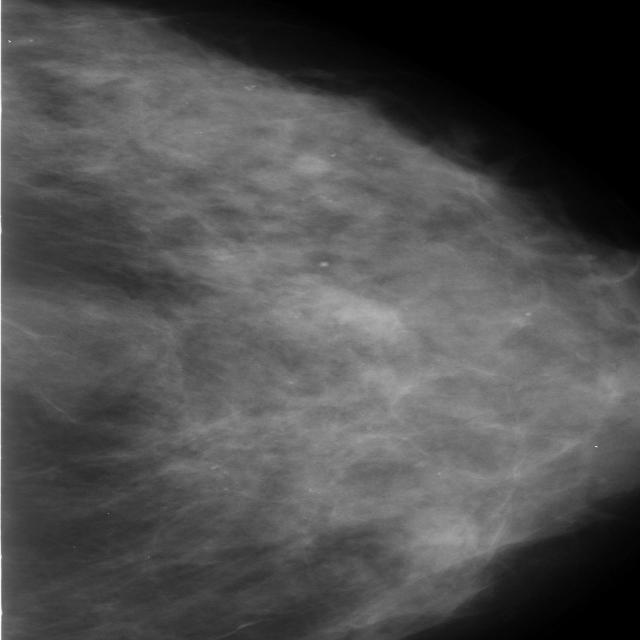normal: (0, 0, 635, 636)
